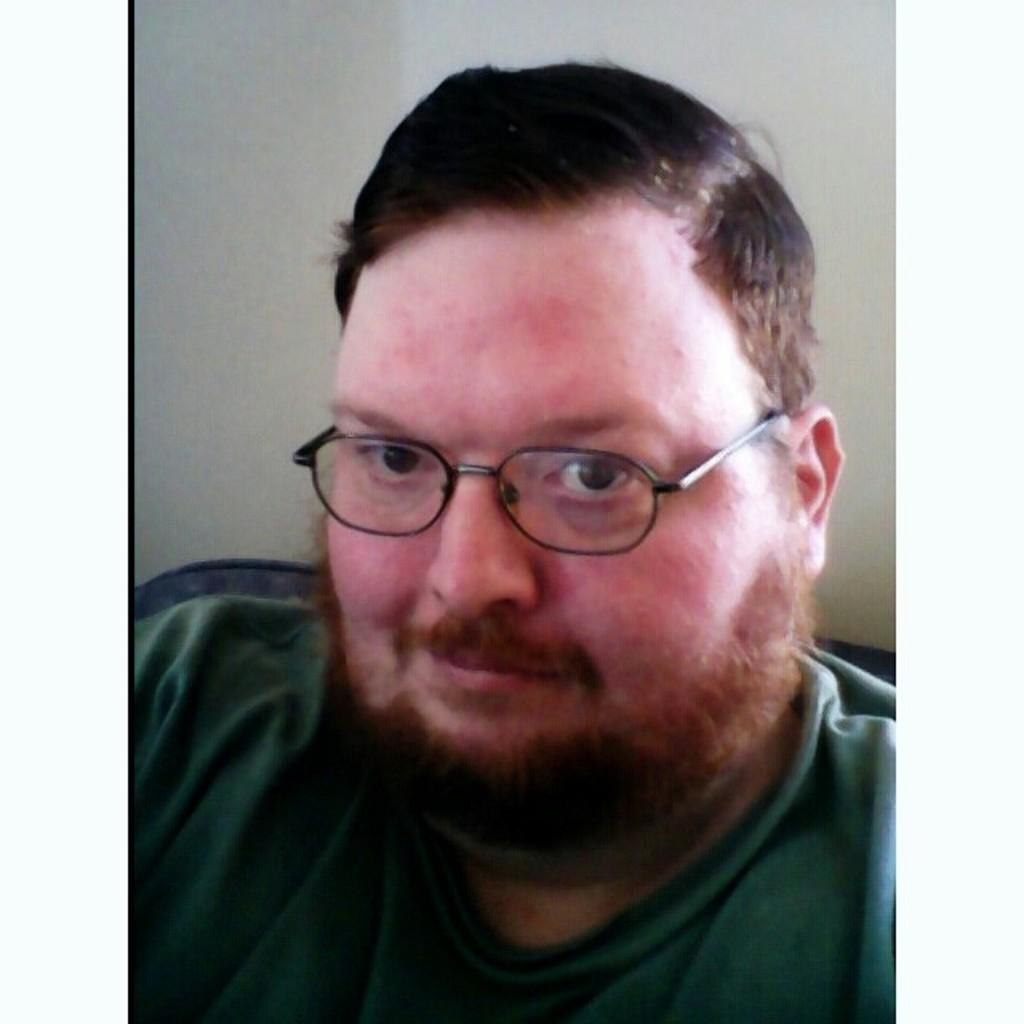Sem Máscara: (324, 203, 799, 836)
